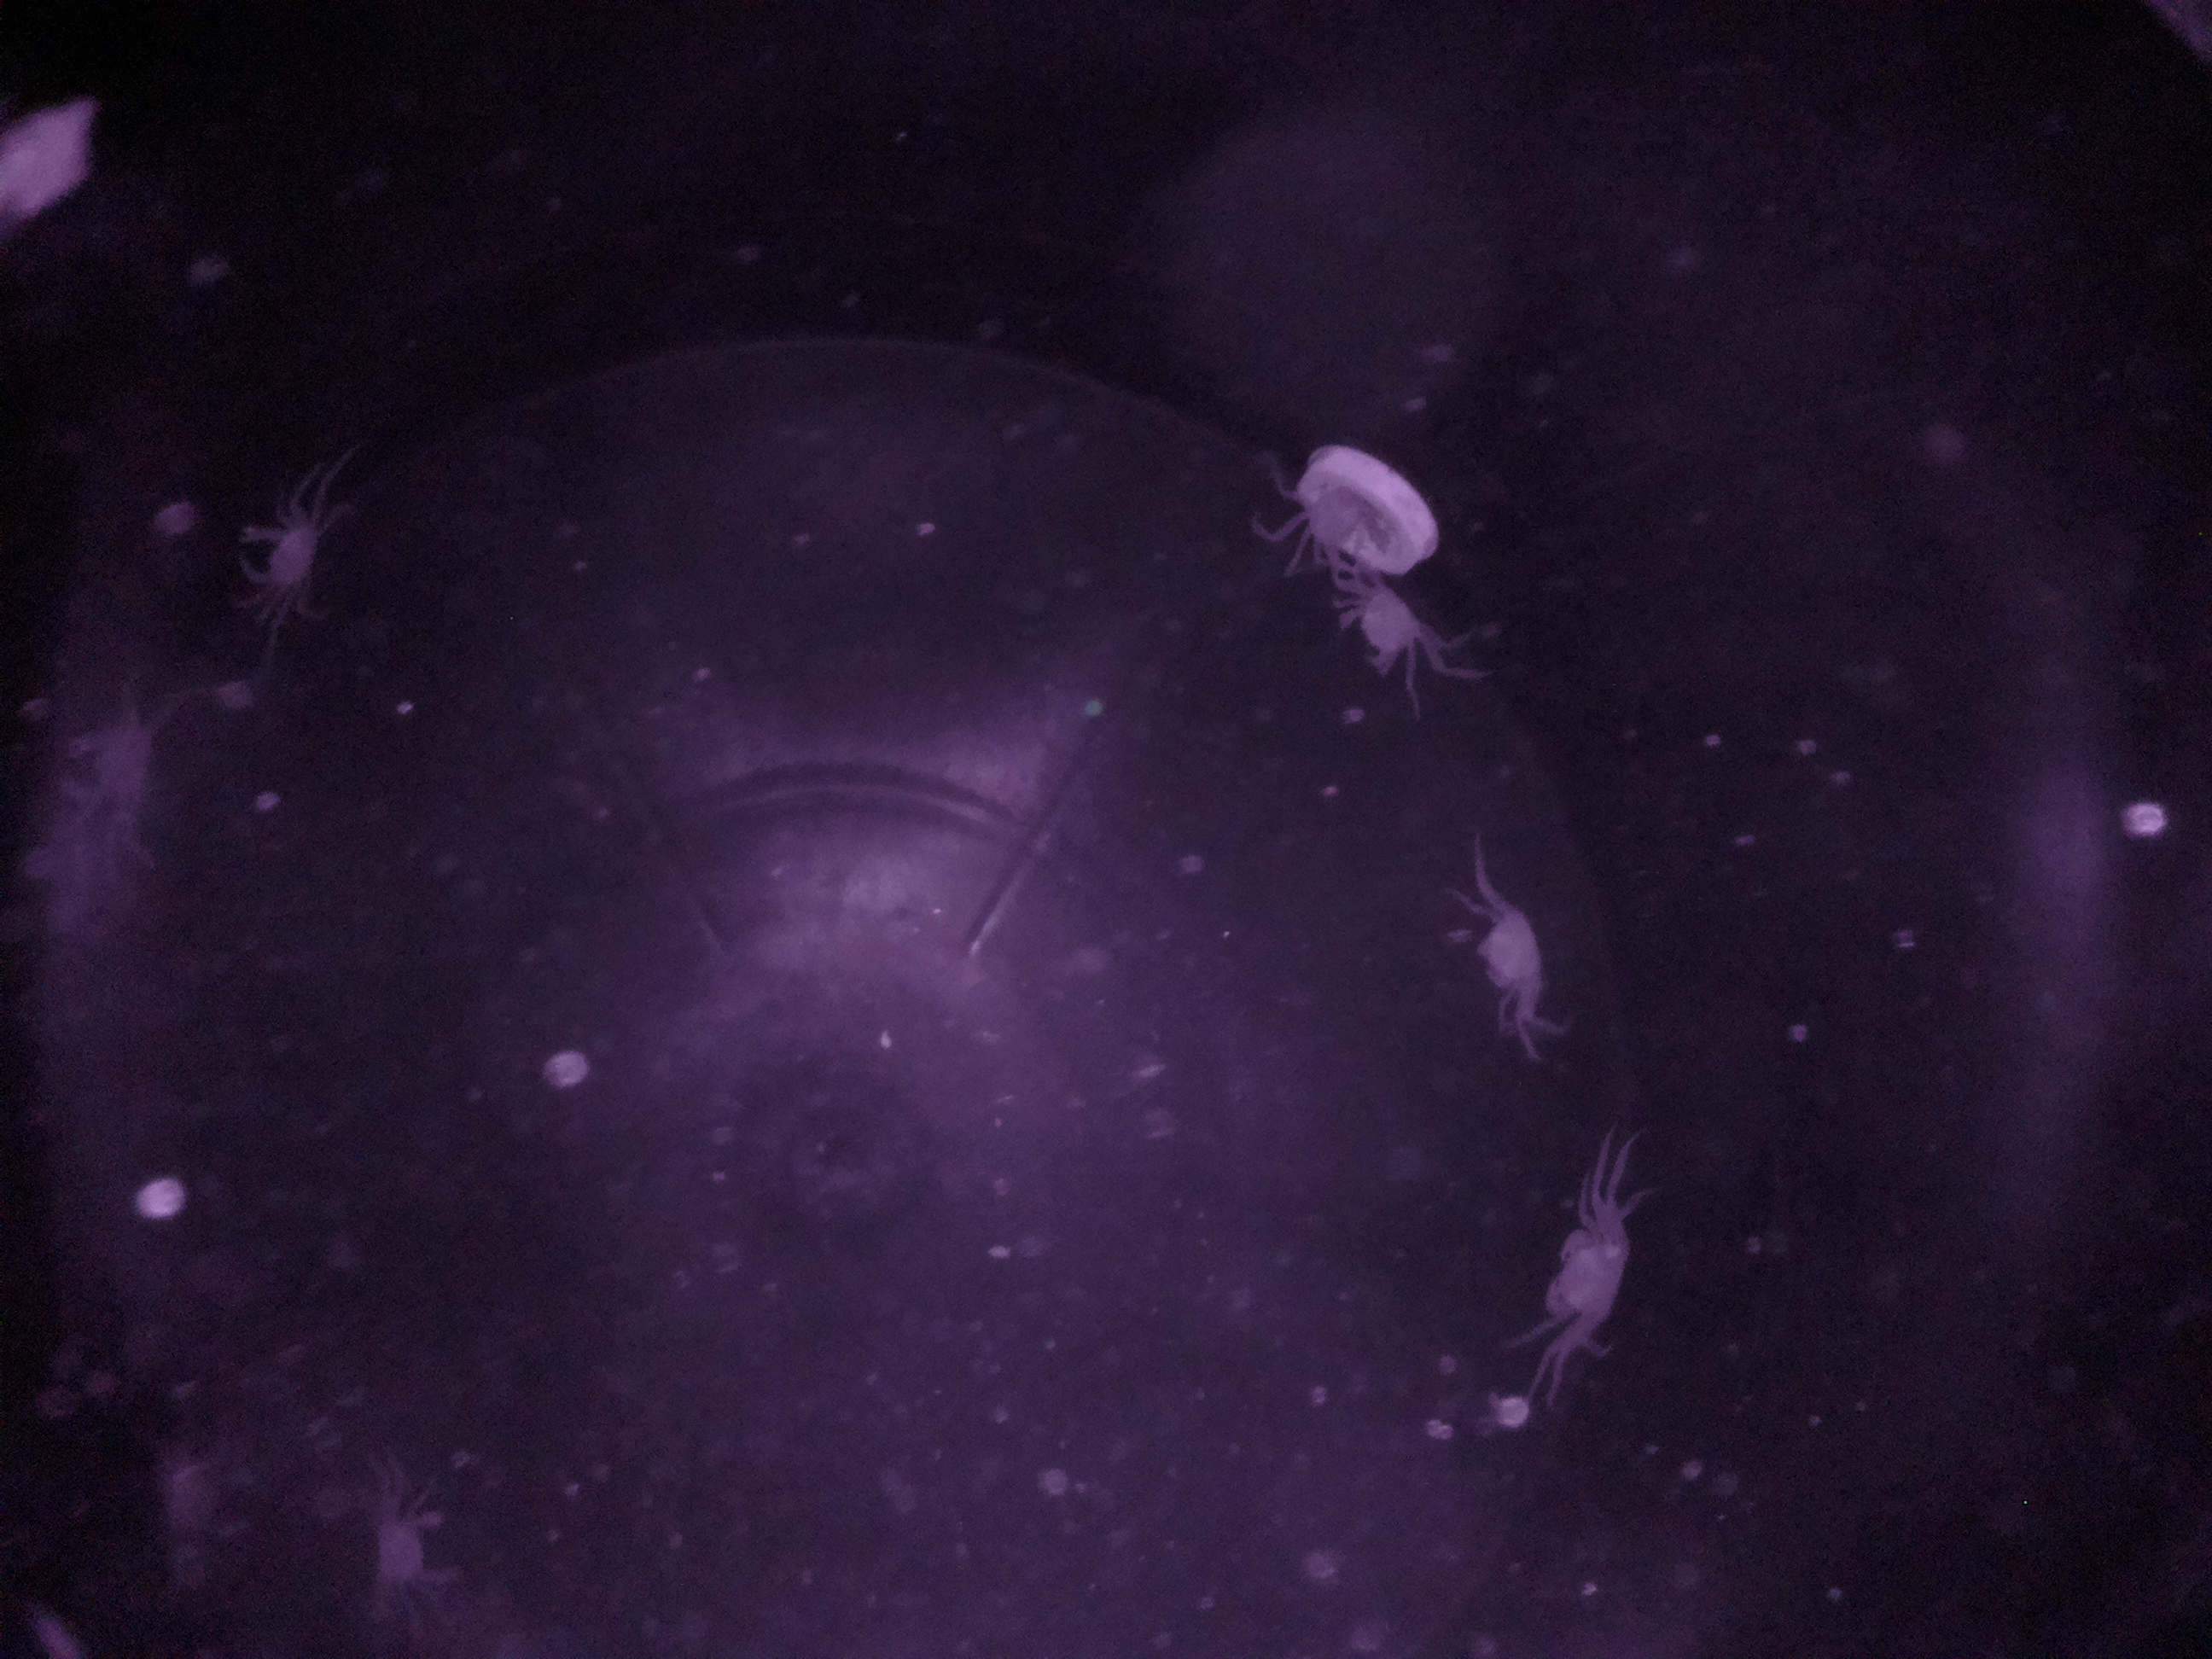Crab: (1521, 1195, 1644, 1366), (1453, 885, 1578, 1033), (1329, 561, 1456, 685)
